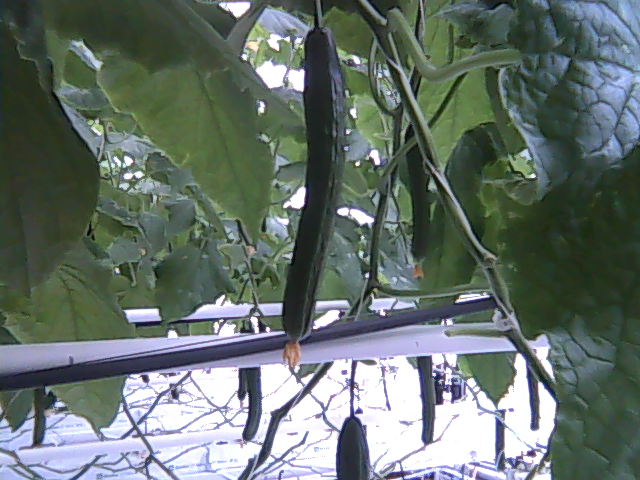concombre: (278, 17, 350, 373), (334, 410, 374, 480)
